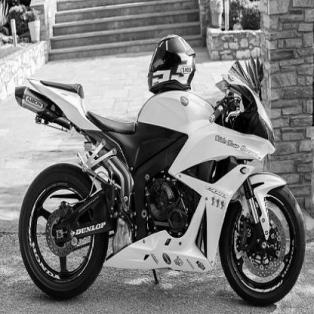Motocicleta: (11, 41, 309, 302)
